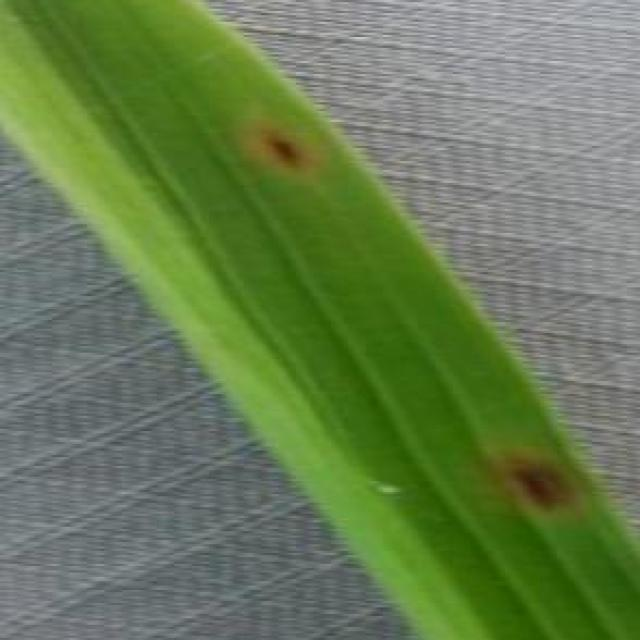Brown_Spot: (494, 436, 592, 522), (248, 111, 324, 181)
